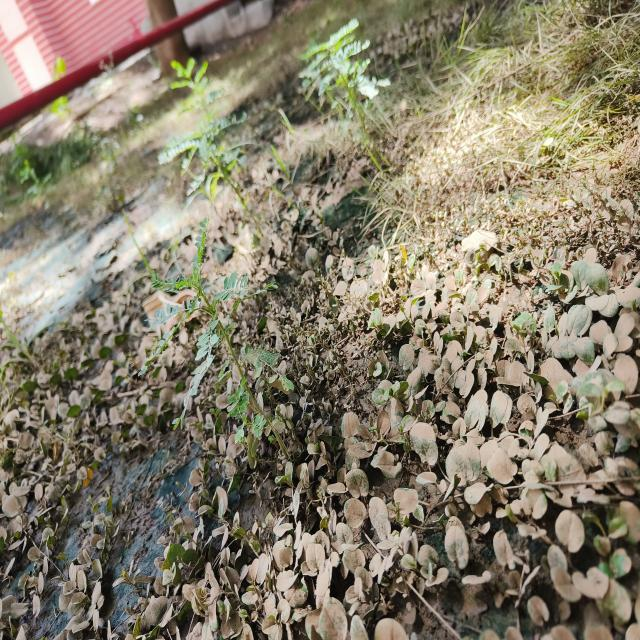weed: (149, 219, 276, 448)
